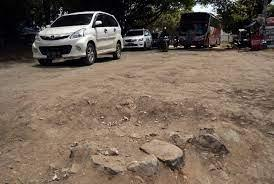Pothole: (30, 97, 274, 184)
